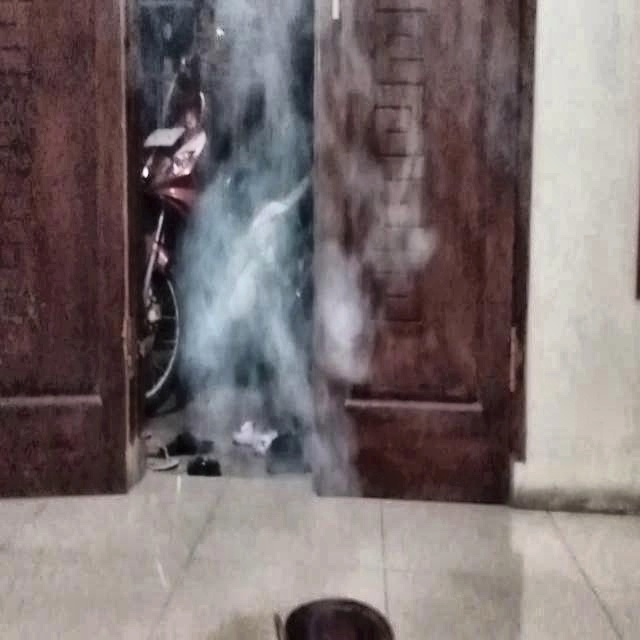smoke: (187, 0, 360, 522)
